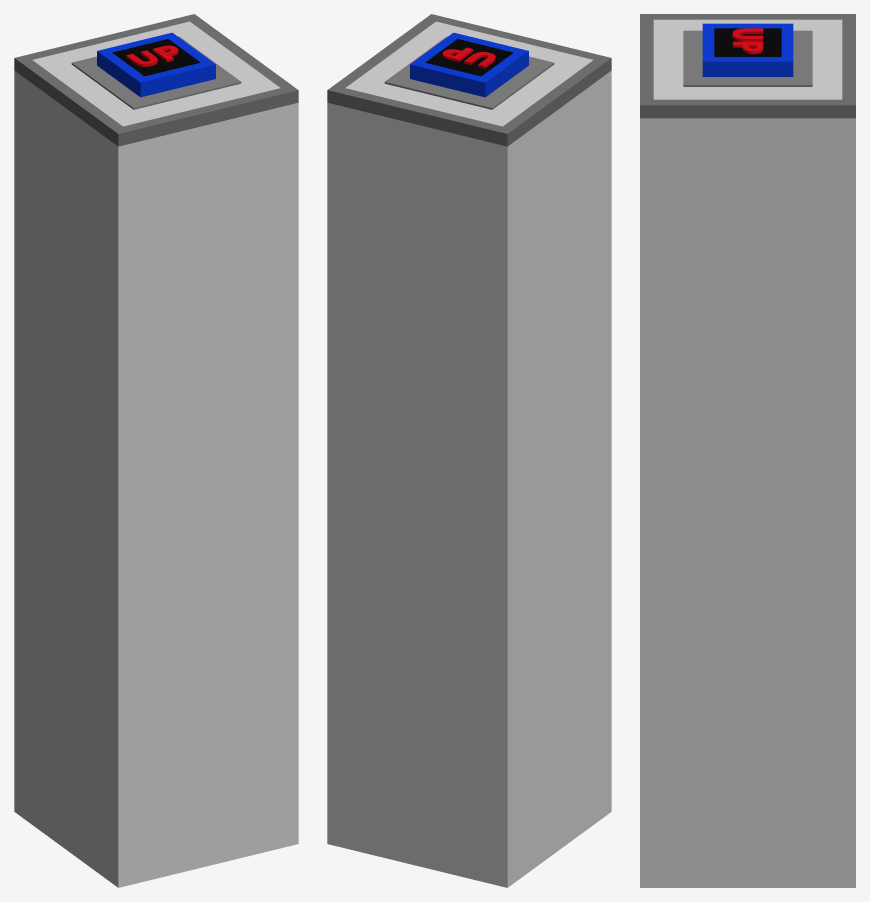
File: white_blue_up.fbx
3 renders of one model, left to right at view 1: azimuth 30°, elevation 25°; view 2: azimuth 150°, elevation 25°; view 3: azimuth 270°, elevation 25°, orthographic. The views are drawn at different scales.
Visible parts, largest first — view 1: white_blue_up; view 2: white_blue_up; view 3: white_blue_up.
Boxes of the visible parts, bbox=[...] form: white_blue_up: bbox=[14, 14, 298, 887]; white_blue_up: bbox=[327, 14, 611, 887]; white_blue_up: bbox=[640, 14, 855, 887].
Bounding box in the file's own units: 1 × 4.1 × 1.
